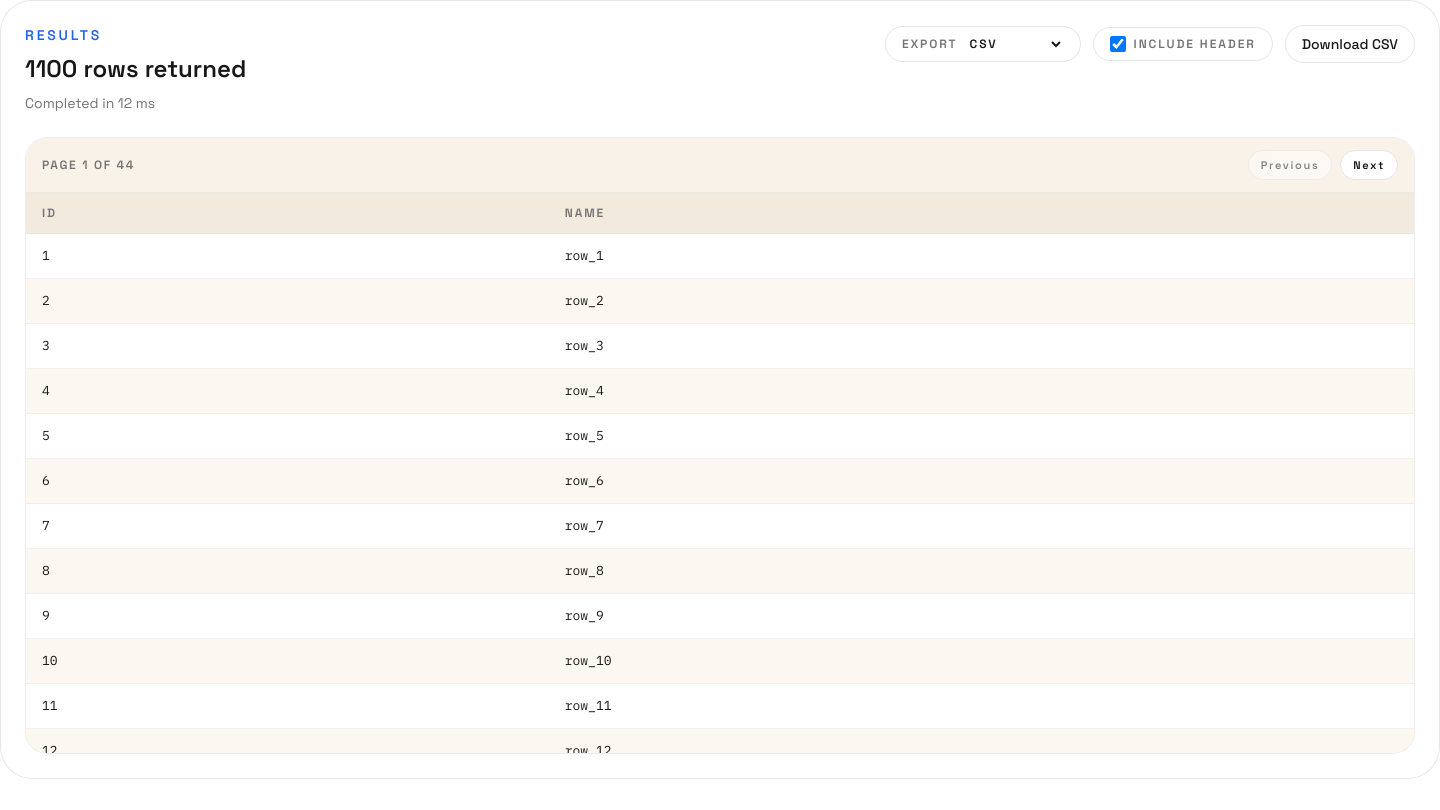
Test case: EDGE_CASES results UI › paginates large result sets to 25 rows per page once they exceed 1,000 rows
Check: the text "Page 1 of 44" is shown, box 42,157 -> 135,173
Check: the text "row_1" is shown, box 549,234 -> 1414,278
Click the button "Next" at (1369, 165), box 1340,150 -> 1398,180
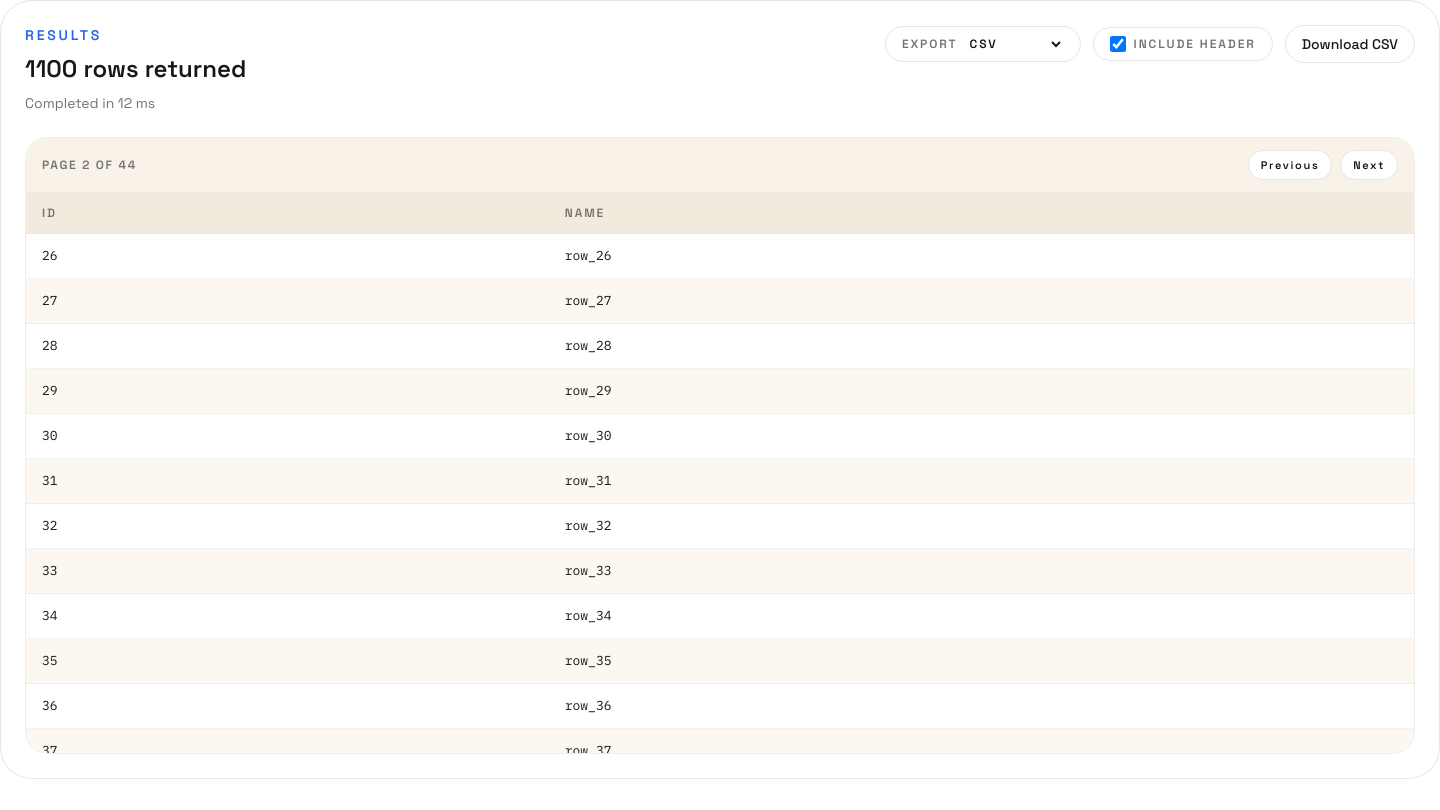
Check: the text "Page 2 of 44" is shown, box 42,157 -> 137,173
Check: the text "row_26" is shown, box 549,234 -> 1414,278
Check: the text "row_1" is gone
